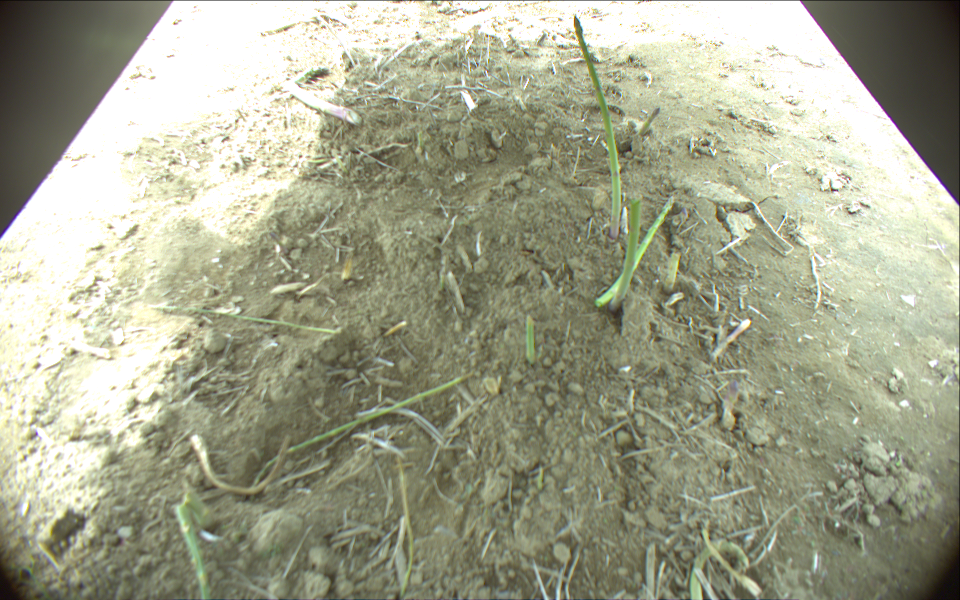aspa: (253, 368, 478, 483), (573, 14, 623, 240), (593, 195, 676, 308), (139, 301, 341, 334), (285, 65, 368, 126), (610, 196, 642, 312), (174, 505, 210, 600), (636, 106, 659, 140), (667, 253, 680, 296), (526, 316, 533, 366)
